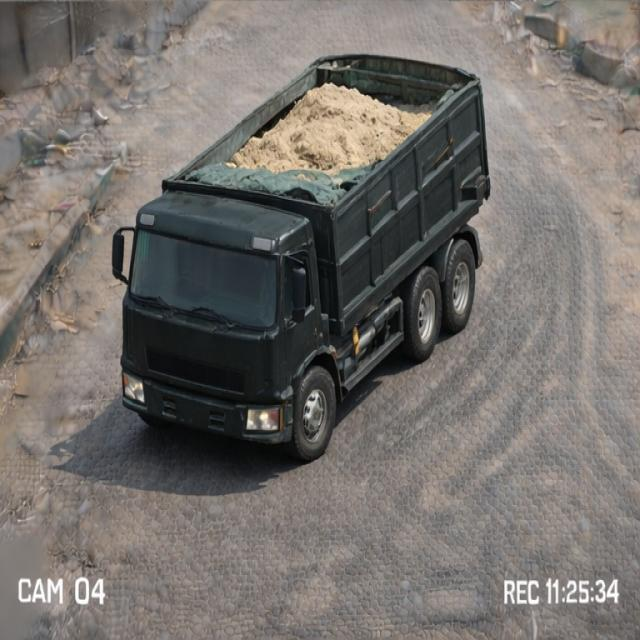trailer: (169, 56, 472, 216)
truck: (113, 28, 490, 452)
